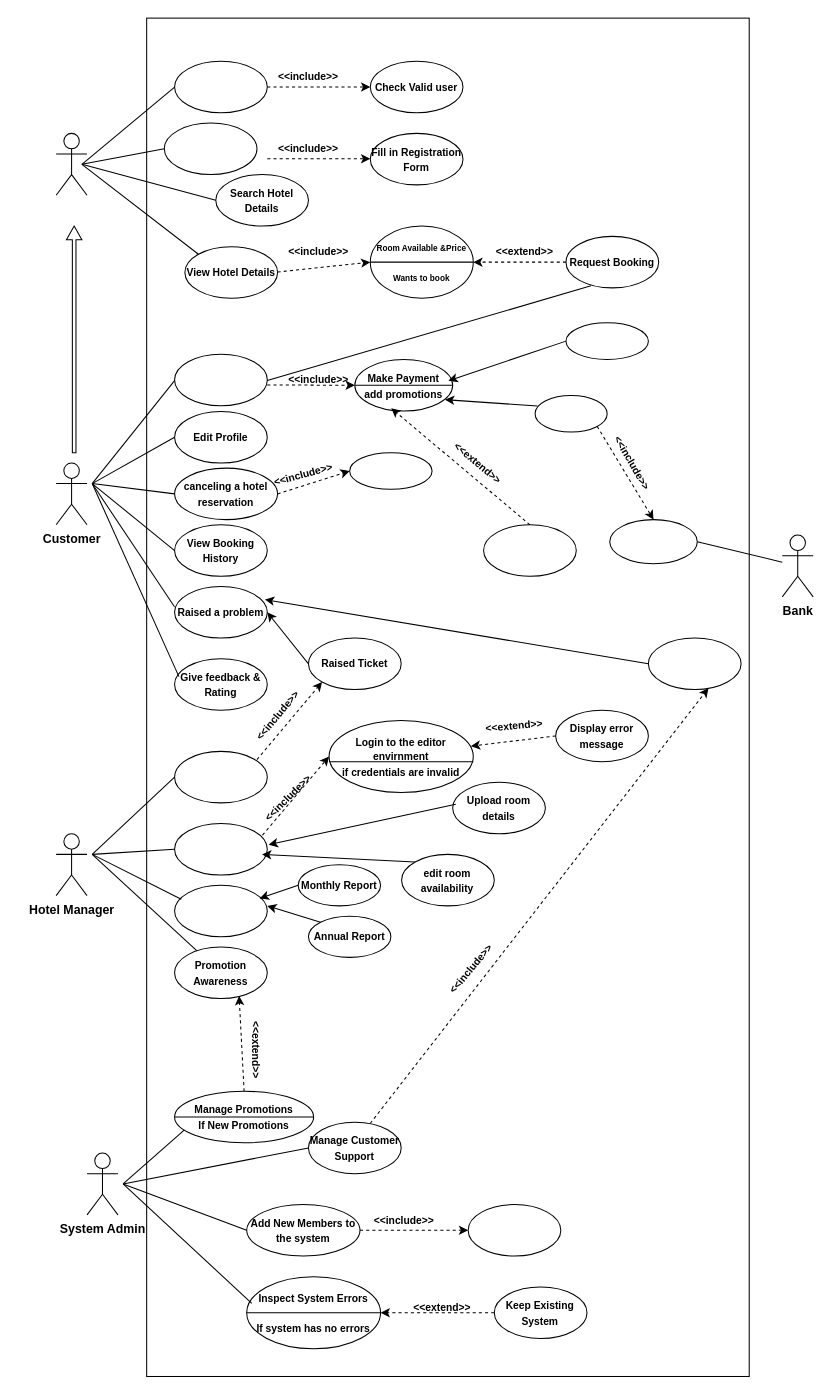
Some shapes in this 831 by 1395 pixel diagram are drawn without their labels. The shapes that lost their labels are listed below. From the top down, each one's centre as x and y in pixels, then its label:
pixel 220 86: Login
pixel 71 163: Unregistered User
pixel 210 148: Register to the System
pixel 606 340: Online payment
pixel 220 379: booking
pixel 570 413: Card
pixel 390 470: fill cancellation form
pixel 529 550: check promotion validation
pixel 653 541: Handle Payment
pixel 694 663: Contact Customer Support
pixel 220 776: Manage Tickets
pixel 220 848: Maintain Room
pixel 220 910: Generate Reports
pixel 514 1230: Check Registration Form
